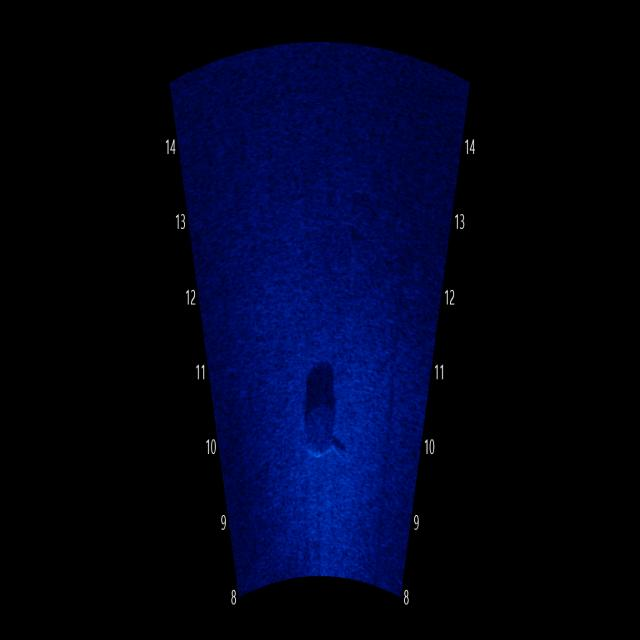circle: (300, 386, 340, 474)
